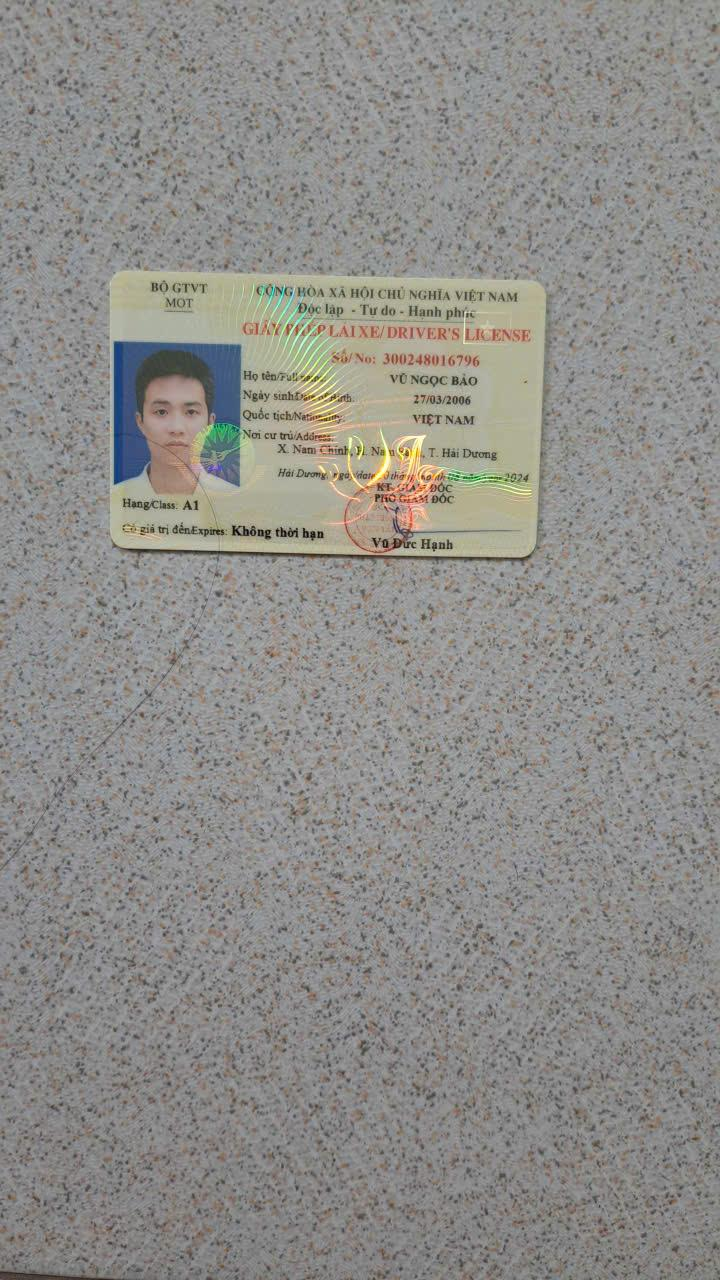gplx: (100, 261, 558, 568)
